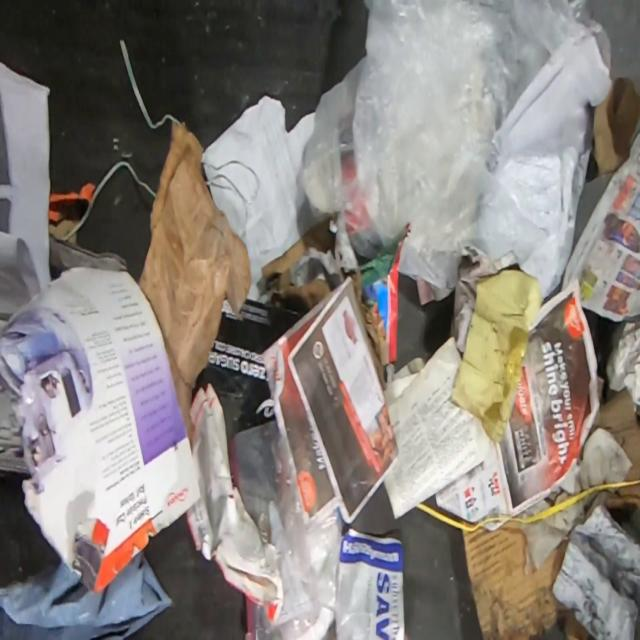cardboard: (138, 121, 251, 450), (460, 514, 569, 638)
soft_plastic: (303, 0, 613, 287), (1, 471, 174, 639), (230, 419, 344, 639)
